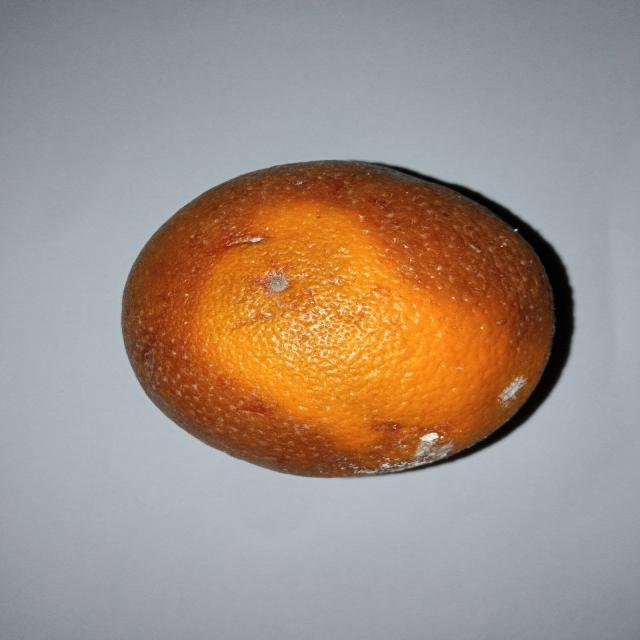rotten_orange: (120, 162, 553, 478)
